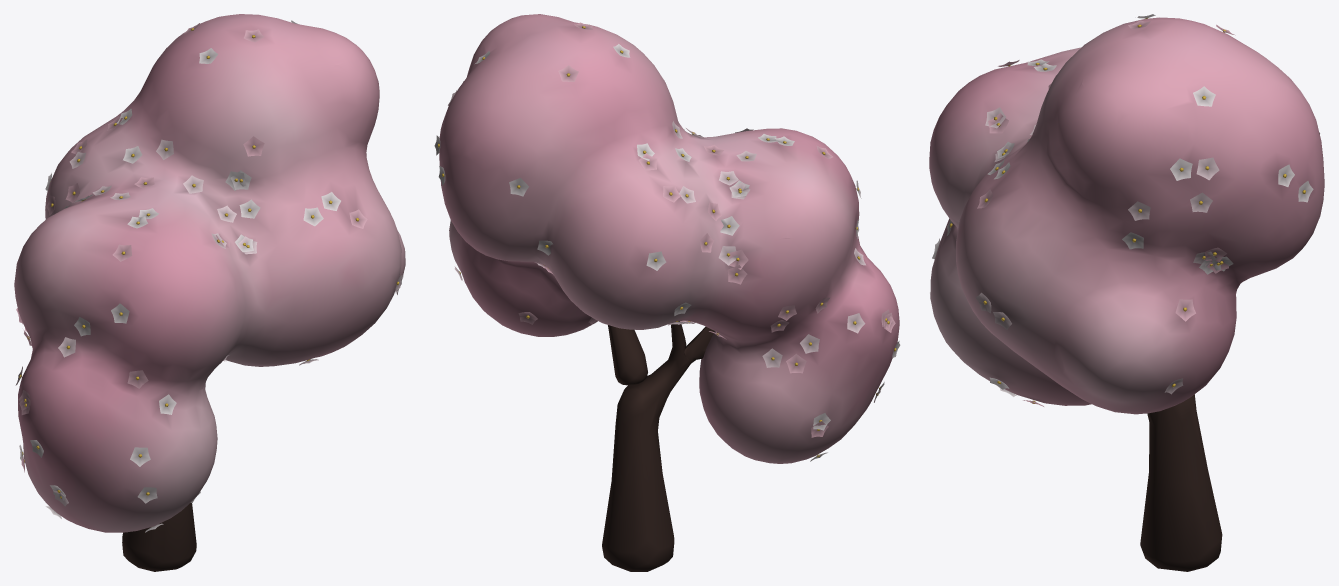
Rendered from tree_04_6.glb.
The picture shows the model from 3 angles, left to right: view 1: azimuth 30°, elevation 25°; view 2: azimuth 150°, elevation 25°; view 3: azimuth 270°, elevation 25°; orthographic projection. The views are drawn at different scales.
Visible parts, largest first — view 1: canopy, blooms, bark; view 2: canopy, bark, blooms; view 3: canopy, bark, blooms.
Boxes of the visible parts, x1=… form: canopy: x1=14, y1=14, x2=405, y2=532; blooms: x1=15, y1=20, x2=403, y2=532; bark: x1=122, y1=503, x2=196, y2=571; canopy: x1=439, y1=14, x2=899, y2=463; bark: x1=602, y1=321, x2=714, y2=571; blooms: x1=434, y1=22, x2=900, y2=461; canopy: x1=929, y1=17, x2=1324, y2=414; bark: x1=1140, y1=394, x2=1222, y2=571; blooms: x1=930, y1=14, x2=1319, y2=406.
Size of the model in its own units: 3.6 by 4.39 by 2.7.
